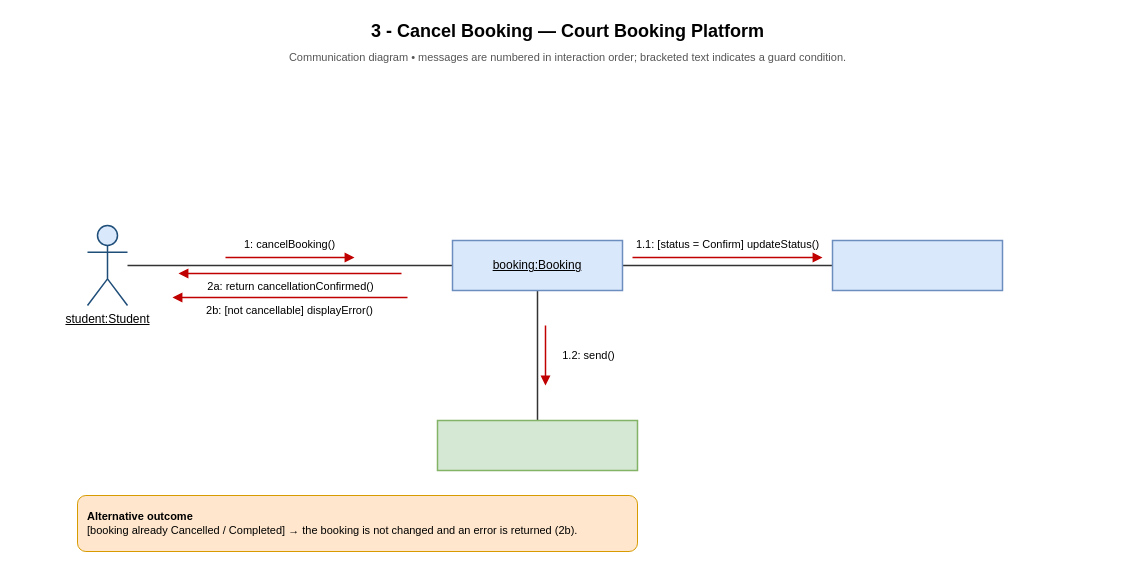
This 1134x569 diagram has some shape labels left out. The shapes that lost their labels are listed below. From the top down, each one's box as (x1, y1, x2, y2) in pixels, then its label:
(831, 239, 1003, 291): court:Court
(436, 419, 638, 471): notification:Notification
